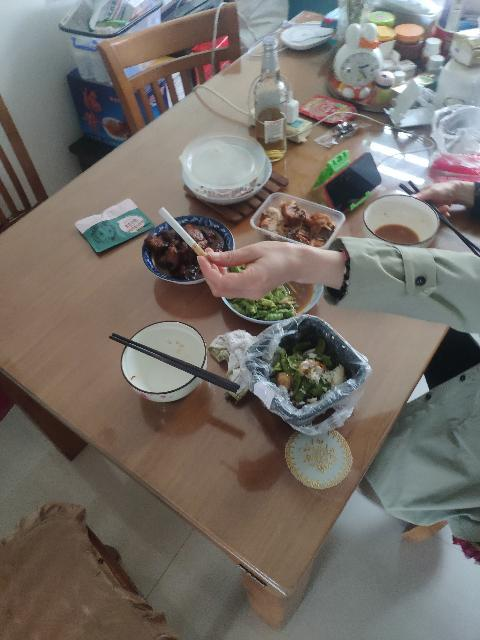Smoking: (158, 207, 214, 263)
